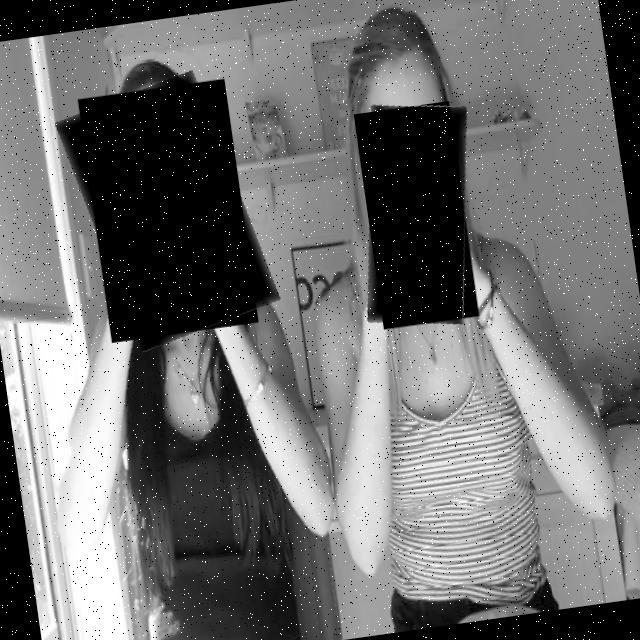Z: (65, 71, 273, 351), (347, 96, 489, 334)
